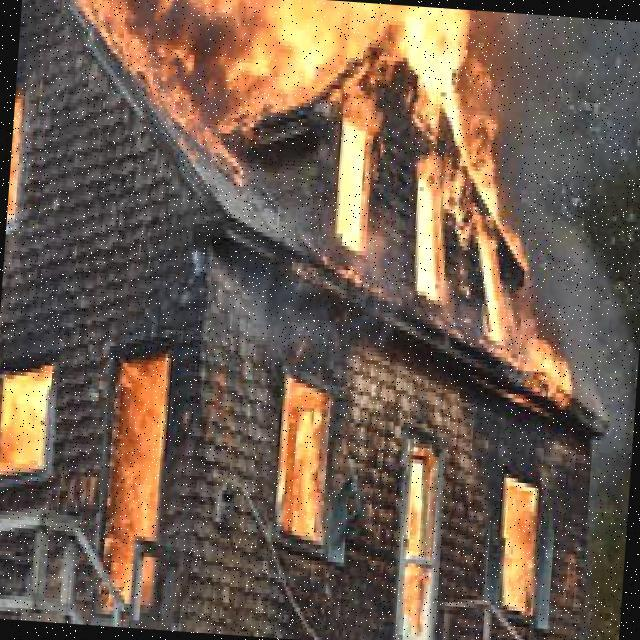Fire: (77, 0, 498, 211), (105, 332, 183, 600), (271, 376, 334, 541), (498, 329, 582, 424), (488, 469, 540, 616), (0, 360, 54, 479)
Smoke: (514, 198, 631, 333)
